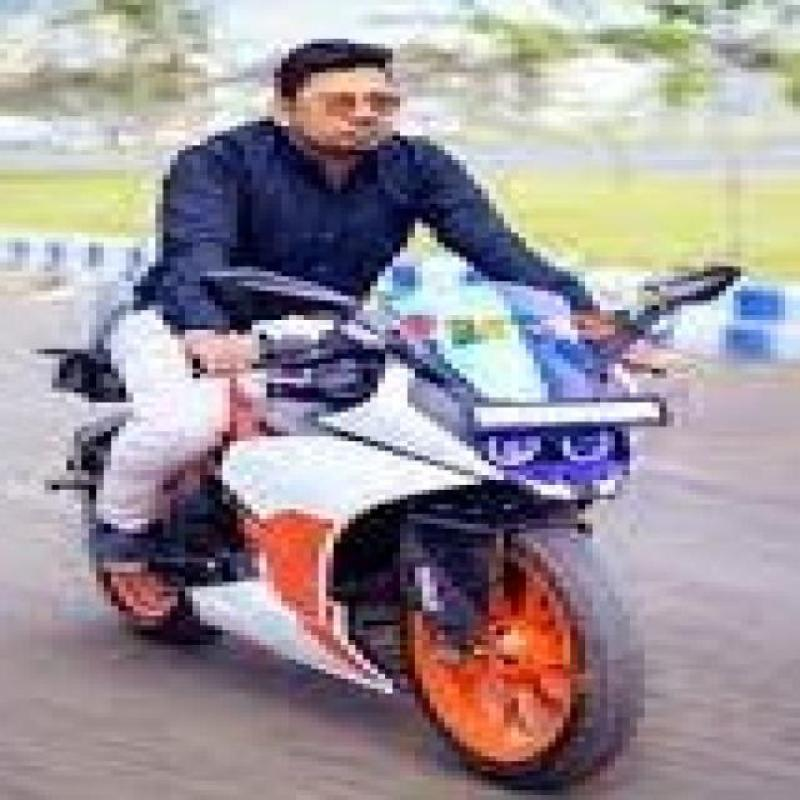nohelmet: (258, 42, 422, 162)
